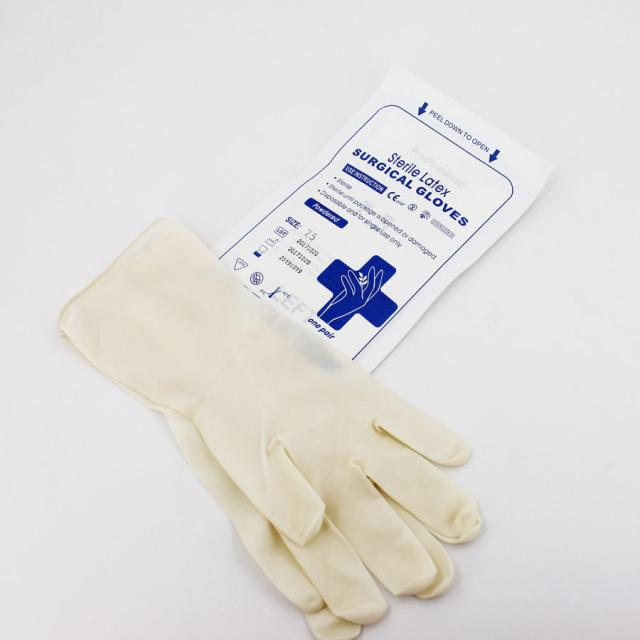Gloves: (58, 218, 511, 640)
